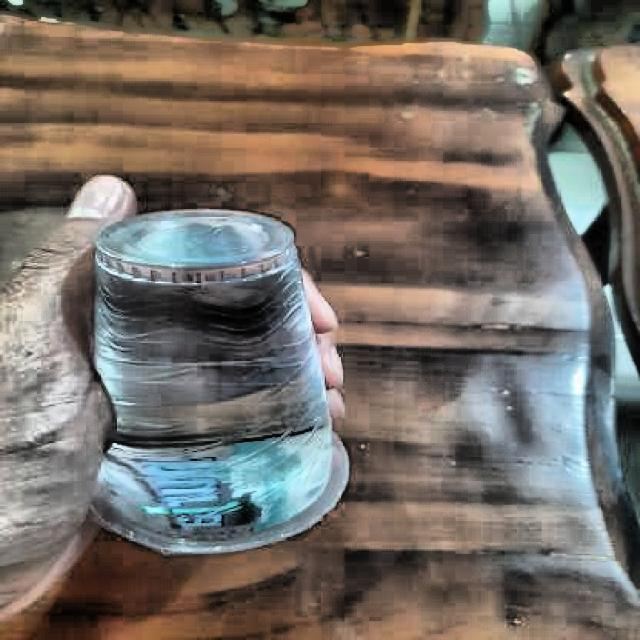Plastico descartable: (87, 209, 350, 561)
